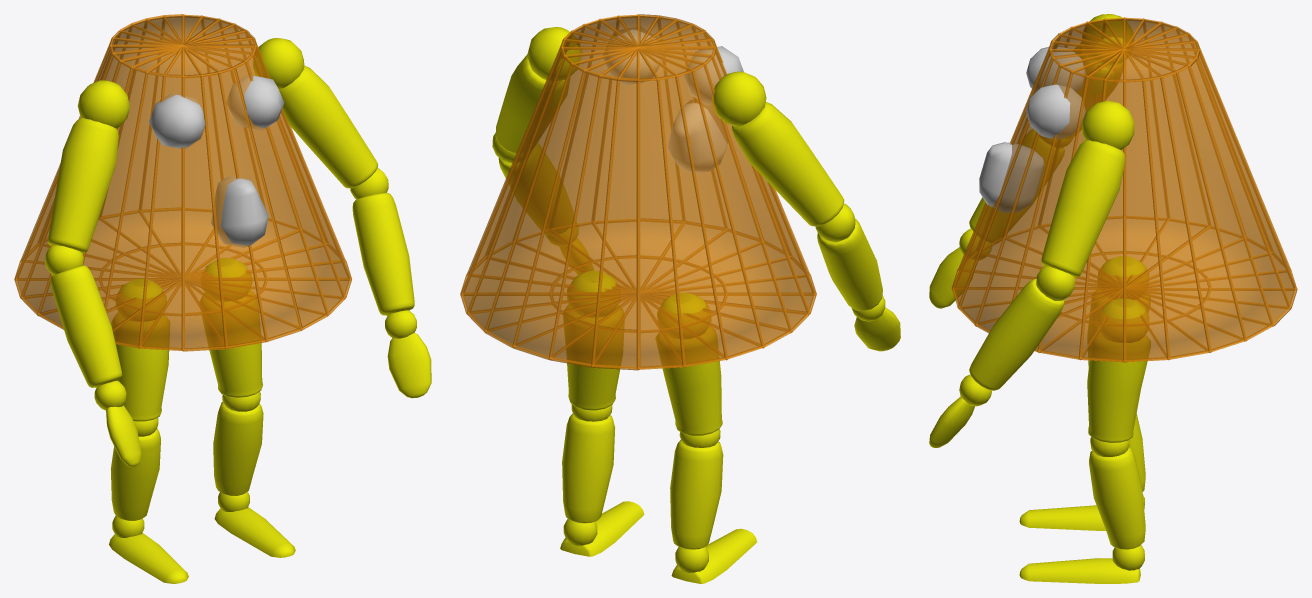
File: Cuerpos Redondos - Cono Trunco -  11.fbx
3 renders of one model, left to right at view 1: azimuth 30°, elevation 25°; view 2: azimuth 150°, elevation 25°; view 3: azimuth 270°, elevation 25°, orthographic. The views are drawn at different scales.
Visible parts, largest first — view 1: Cuerpos Redondos - Cono Trunco - Extremidades1; view 2: Cuerpos Redondos - Cono Trunco - Extremidades1; view 3: Cuerpos Redondos - Cono Trunco - Extremidades1.
Boxes of the visible parts, x1,y1,x2,y2 form: Cuerpos Redondos - Cono Trunco - Extremidades1: (14, 14, 431, 583); Cuerpos Redondos - Cono Trunco - Extremidades1: (460, 14, 900, 583); Cuerpos Redondos - Cono Trunco - Extremidades1: (929, 14, 1297, 583).
Bounding box in the file's own units: 104 × 143 × 95.68.
